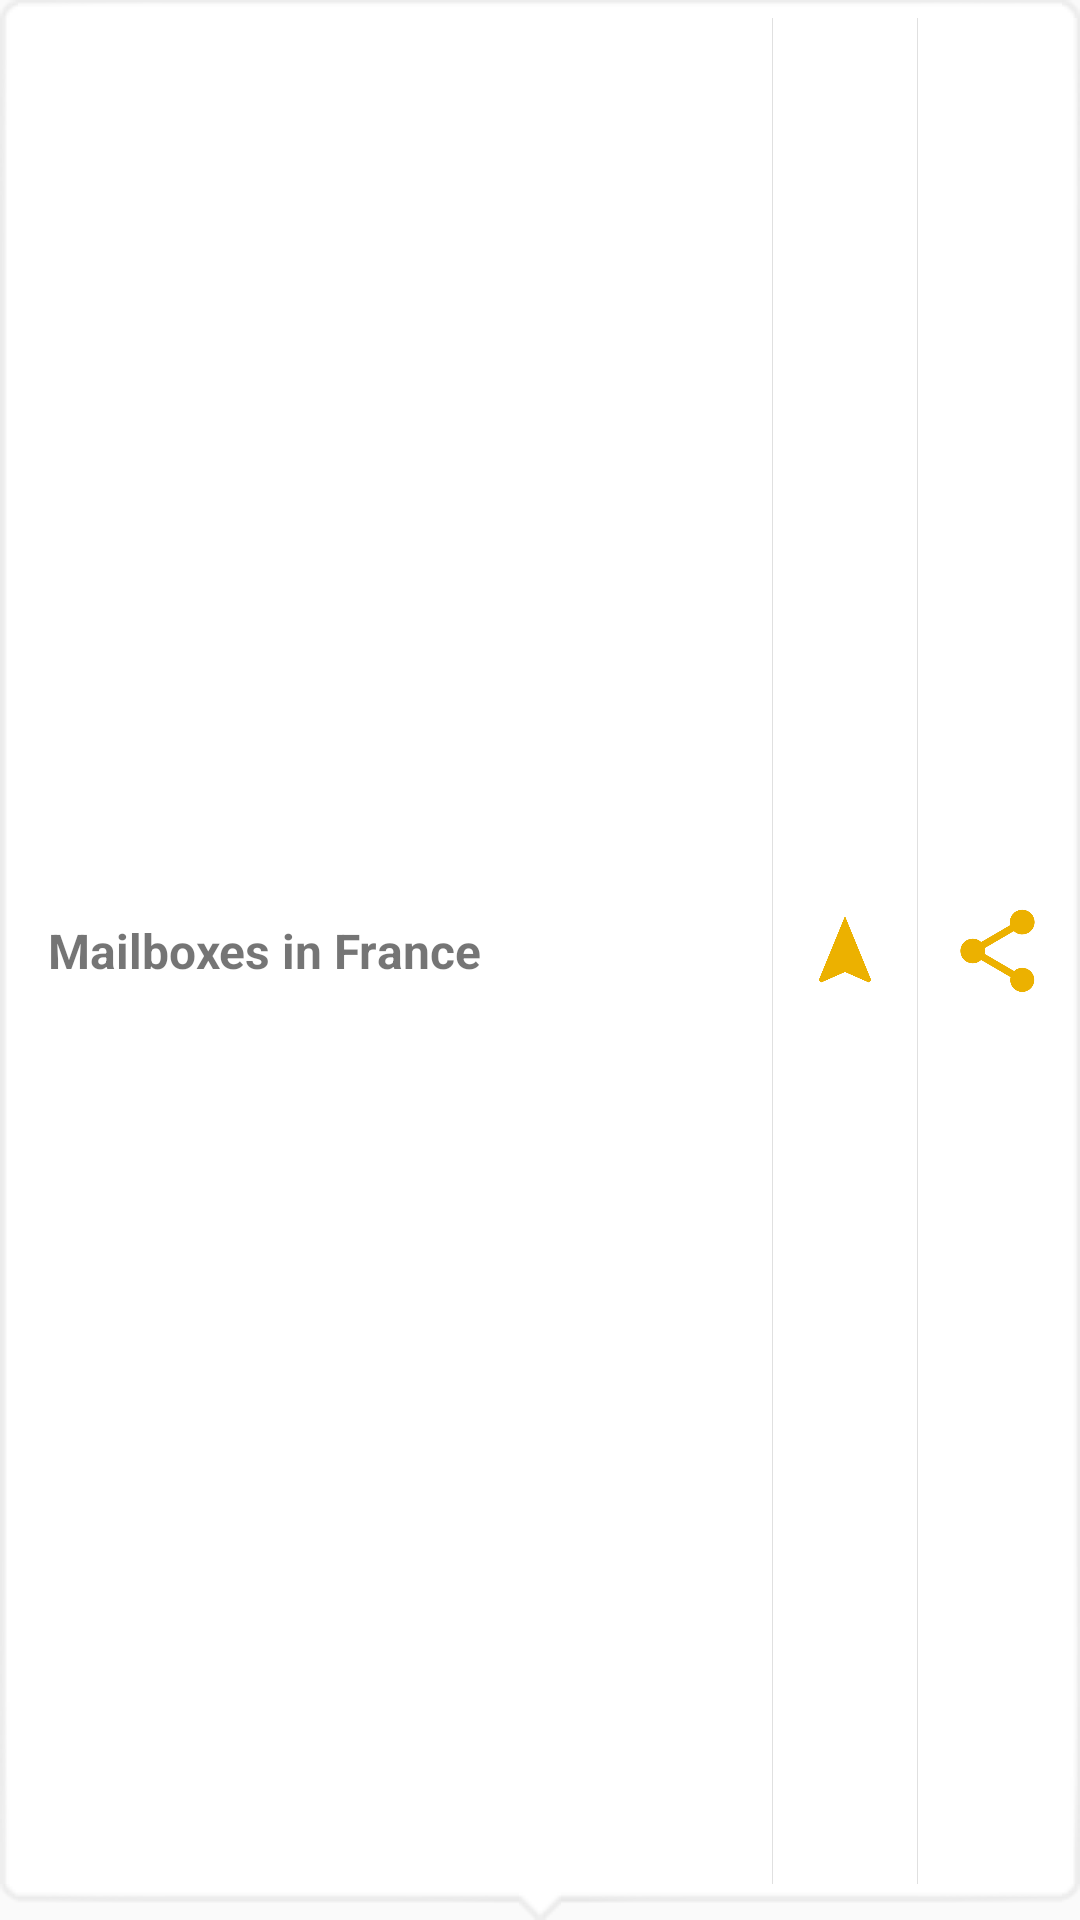

Point at icon controls on the screen. Image size 1080*1920, points as [x,y].
Route: [845,950]
Share: [997,951]
